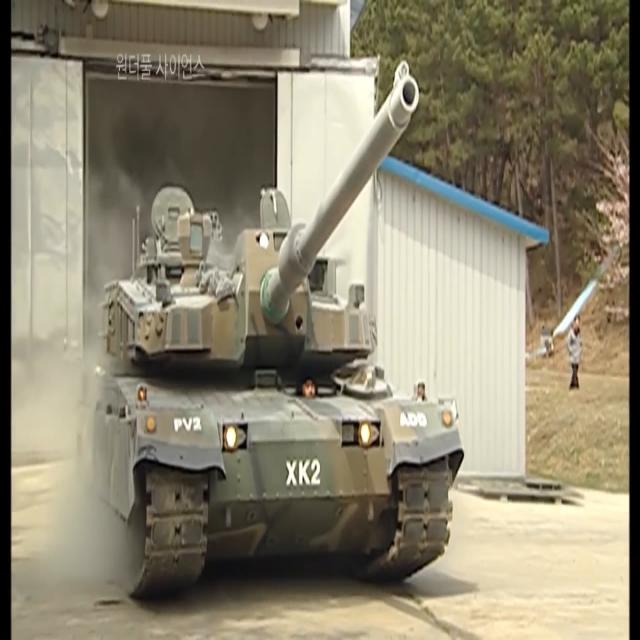korea tank: (73, 59, 465, 604)
